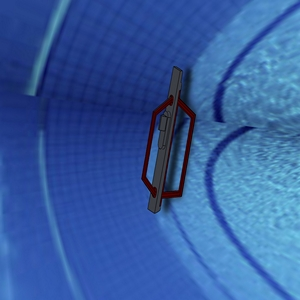submarine: (119, 52, 211, 225)
